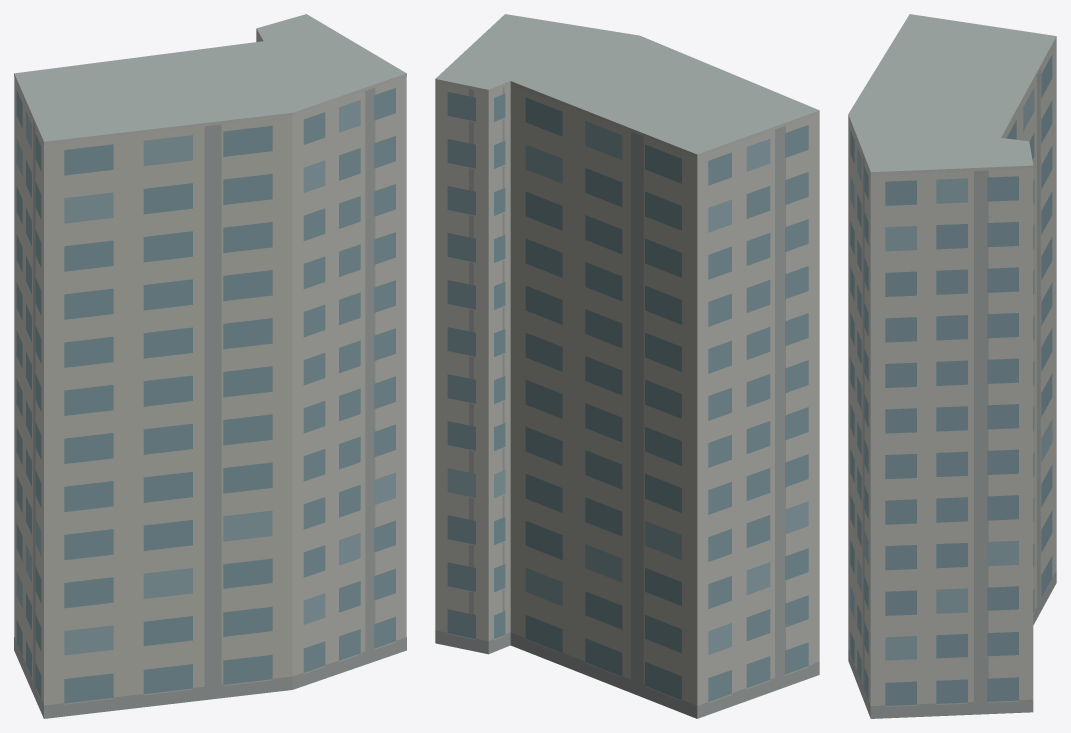
Rendered from residential-3a0f99c5-6179-41c6-a053-e7427bb9cd81.glb.
The picture shows the model from 3 angles, left to right: view 1: azimuth 30°, elevation 25°; view 2: azimuth 150°, elevation 25°; view 3: azimuth 270°, elevation 25°; orthographic projection. The views are drawn at different scales.
Visible parts, largest first — view 1: residential-3a0f99c5-6179-41c6-a053-e7427bb9cd81.tmp; view 2: residential-3a0f99c5-6179-41c6-a053-e7427bb9cd81.tmp; view 3: residential-3a0f99c5-6179-41c6-a053-e7427bb9cd81.tmp.
Boxes of the visible parts, box(x1,y1,x2,y2) form: residential-3a0f99c5-6179-41c6-a053-e7427bb9cd81.tmp: box(14, 14, 406, 718); residential-3a0f99c5-6179-41c6-a053-e7427bb9cd81.tmp: box(435, 14, 819, 718); residential-3a0f99c5-6179-41c6-a053-e7427bb9cd81.tmp: box(848, 14, 1056, 718).
Size of the model in its own units: 26.7 by 43 by 14.86.
